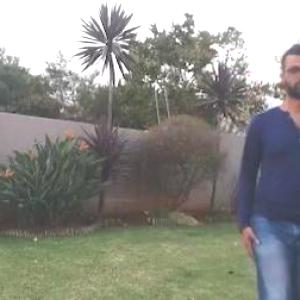follow: (242, 64, 298, 299)
